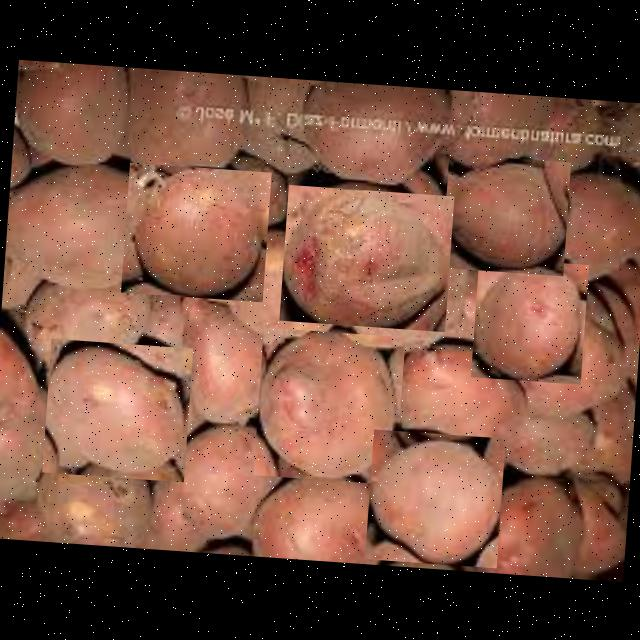Diseased-fungal potato: (278, 184, 453, 330), (252, 326, 404, 484), (41, 337, 192, 481), (120, 161, 270, 301), (364, 428, 504, 567), (440, 152, 570, 275), (470, 256, 588, 383)
